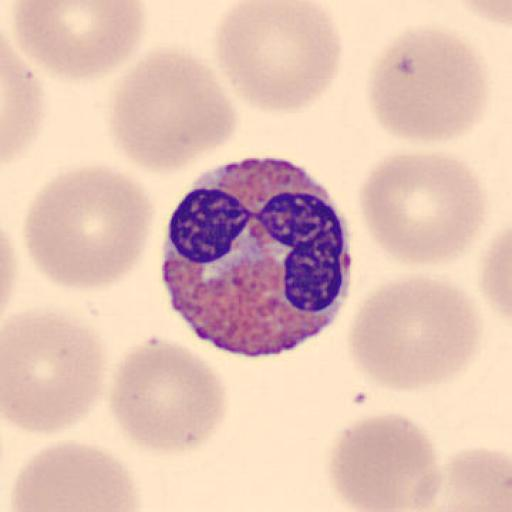RBC: (22, 161, 157, 292), (344, 272, 485, 394), (108, 46, 240, 176), (358, 147, 488, 269), (366, 23, 490, 146), (212, 0, 344, 114), (107, 333, 230, 455), (2, 304, 108, 438), (324, 411, 444, 511), (8, 0, 147, 82), (5, 438, 143, 512), (414, 444, 512, 512), (2, 43, 46, 170), (479, 226, 512, 326), (449, 0, 512, 24)
WBC: (162, 152, 354, 358)
